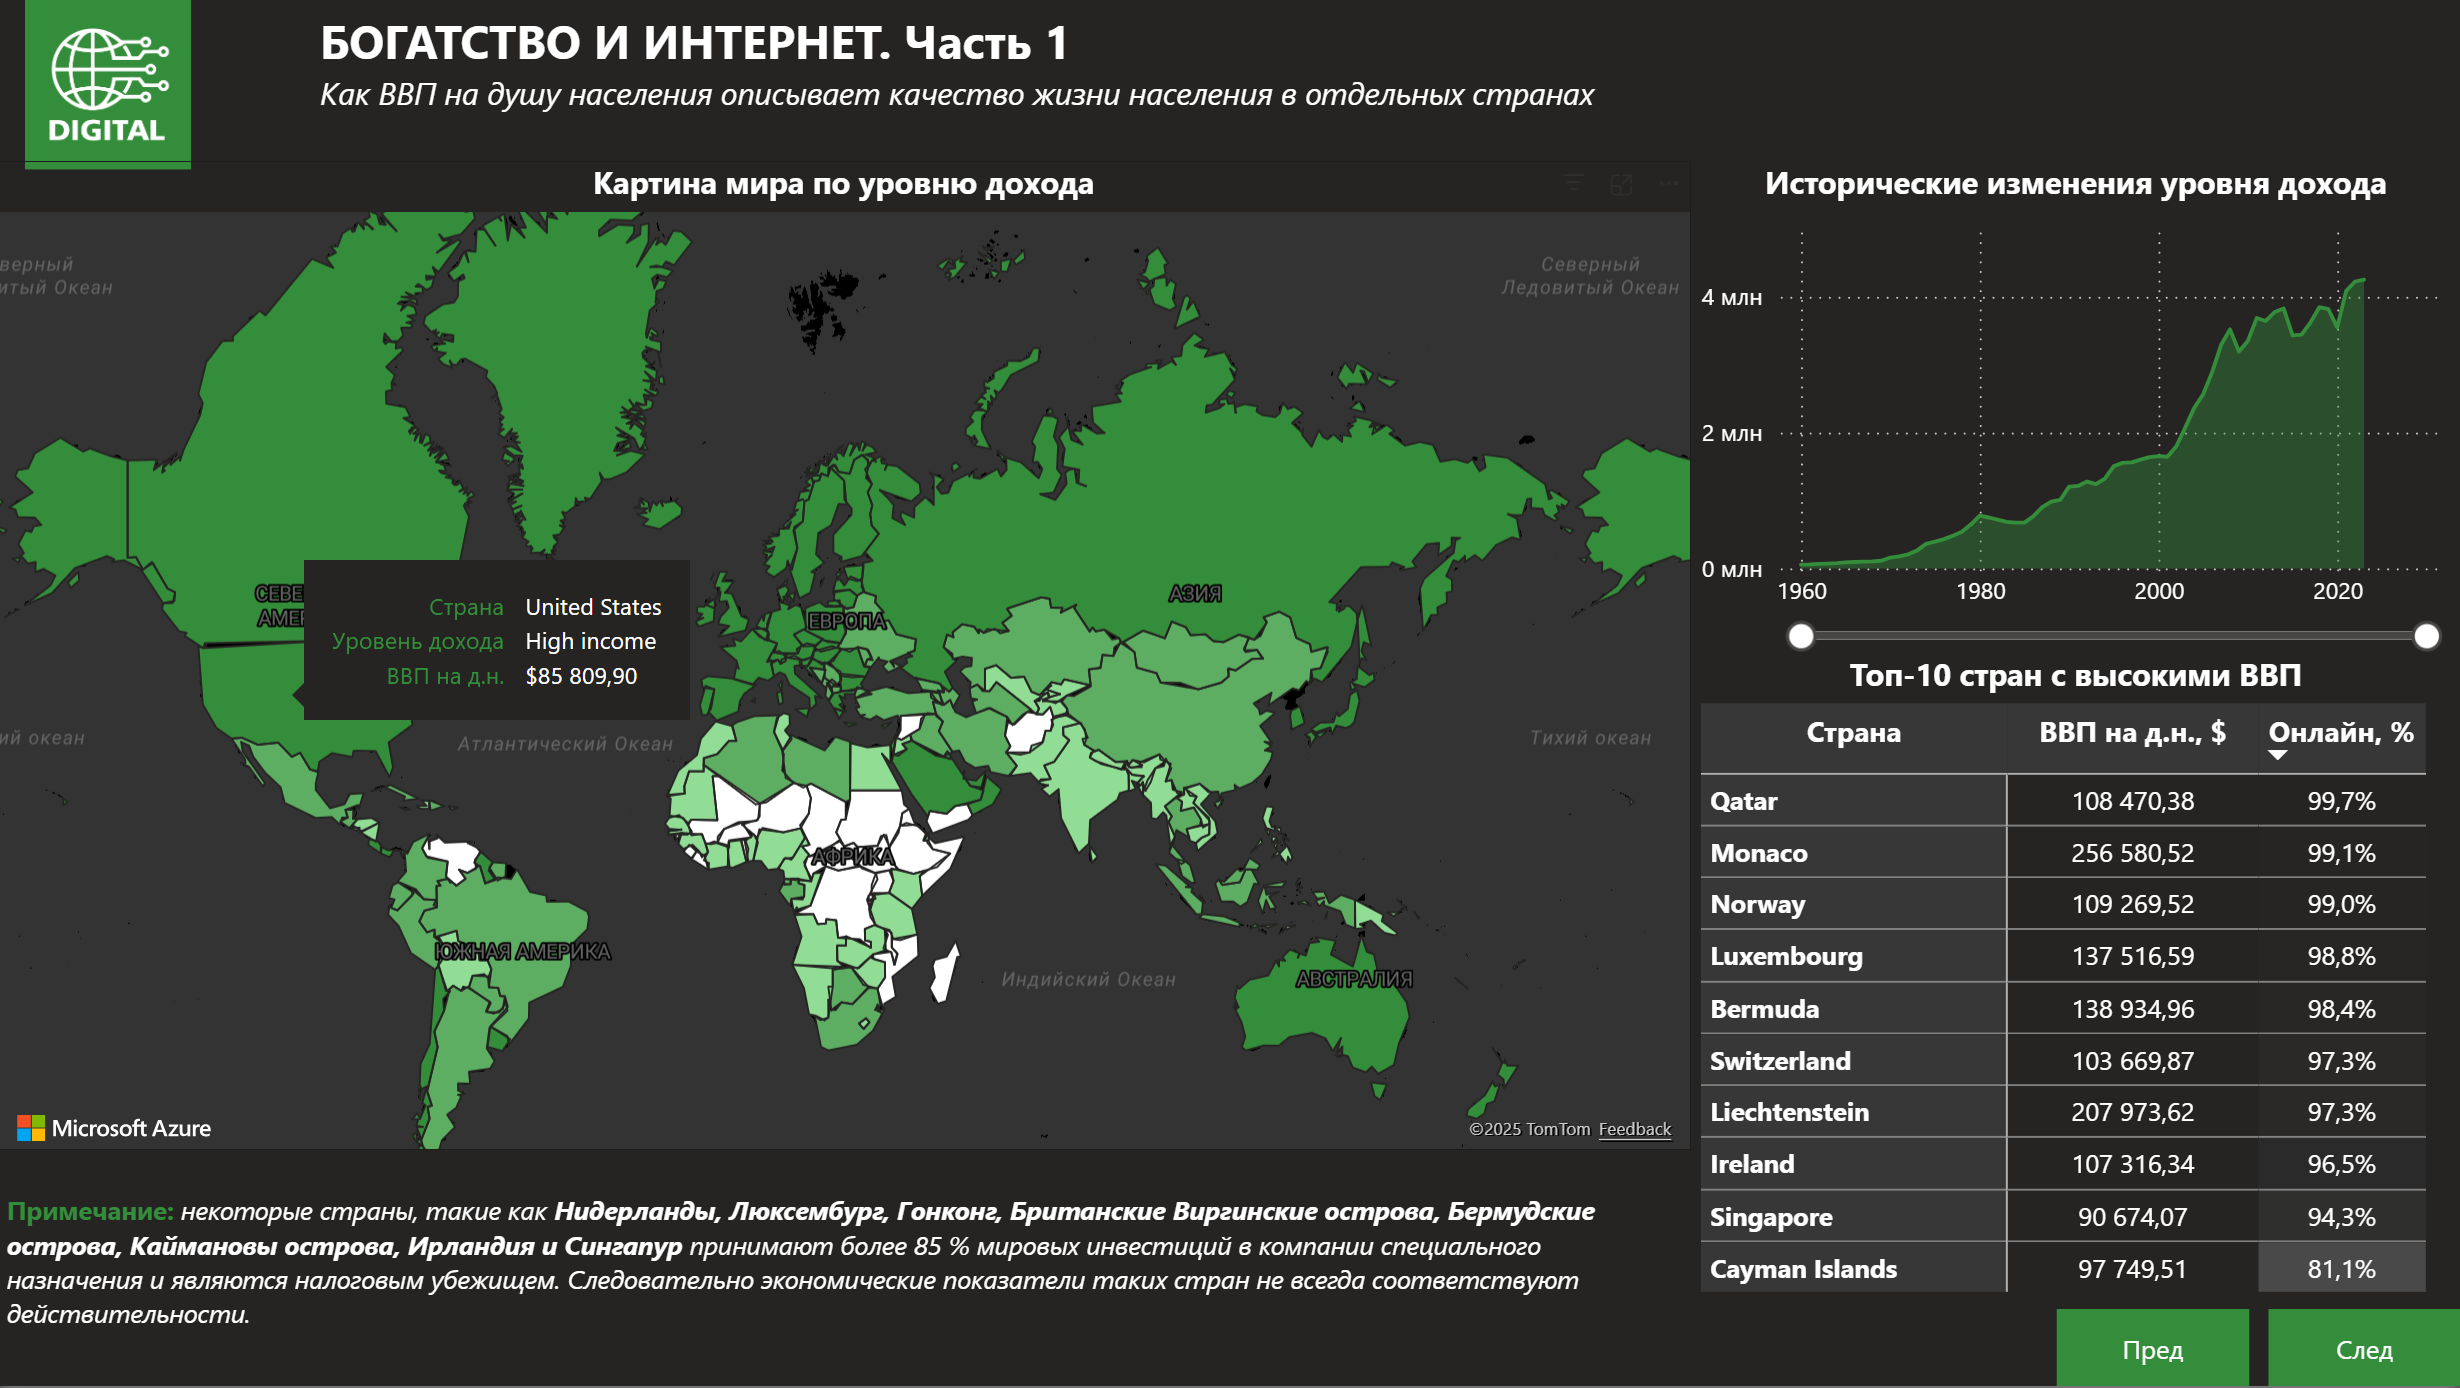

What the dashboard file says about the page in this screenshot:
{"tool":"powerbi","page":{"name":"wealth","canvas":[1280,720],"ordinal":3},"visuals":[{"type":"group","id":"g1","title":"header","box":[14.7,0,1264.9,87.4],"z":0},{"type":"shape","box":[14.7,0,86.3,88.1],"z":0,"group":"g2"},{"type":"textbox","title":"шапка","box":[163,0,1116.7,70],"z":0,"group":"g1"},{"type":"actionButton","title":"след","box":[1180,680,100,40],"z":0,"group":"g3"},{"type":"group","id":"g2","title":"logo","box":[14.7,0,86.4,87.4],"z":500,"group":"g1"},{"type":"image","box":[19,4.3,77.9,79.1],"z":1000,"group":"g2"},{"type":"group","id":"g3","title":"nav","box":[1070,680,210,40],"z":1000},{"type":"actionButton","title":"пред","box":[1070,680,100,40],"z":1000,"group":"g3"},{"type":"pivotTable","title":"Топ-10 стран с высокими ВВП","fields":{"Rows":["regions.Country Name"],"Values":["calculation_gdp.gdp","calculations_global.percent_connected"]},"box":[880,339.1,400,341.2],"z":5000,"group":"g4"},{"type":"stackedAreaChart","title":"Исторические изменения уровня дохода","fields":{"Category":["data.Year"],"Y":["calculation_gdp.gdp"]},"box":[880,84.1,400,257.5],"z":6000,"group":"g4"},{"type":"textbox","box":[0,615,872.9,85.4],"z":7000,"group":"g4"},{"type":"group","id":"g4","title":"visual","box":[0,84.1,1280,616.3],"z":7001},{"type":"azureMap","title":"Картина мира по уровню дохода","fields":{"Category":["regions.Country Name"],"Series":["regions.IncomeGroup"]},"box":[0,83.7,879.8,513.2],"z":7501}]}

Visuals, with their boxes in screenshot pixels (x1, y1, x2, y2), scaled from the page's 1280x720 canvas onto the 2460x1388 screenshot:
"header" group: bbox=(28, 0, 2459, 168)
shape: bbox=(28, 0, 194, 170)
"шапка" textbox: bbox=(313, 0, 2459, 135)
"след" actionButton: bbox=(2268, 1311, 2459, 1387)
"logo" group: bbox=(28, 0, 194, 168)
image: bbox=(37, 8, 186, 161)
"nav" group: bbox=(2056, 1311, 2459, 1387)
"пред" actionButton: bbox=(2056, 1311, 2249, 1387)
"Топ-10 стран с высокими ВВП" pivotTable: bbox=(1691, 654, 2459, 1311)
"Исторические изменения уровня дохода" stackedAreaChart: bbox=(1691, 162, 2459, 659)
textbox: bbox=(0, 1186, 1678, 1350)
"visual" group: bbox=(0, 162, 2459, 1350)
"Картина мира по уровню дохода" azureMap: bbox=(0, 161, 1691, 1151)
